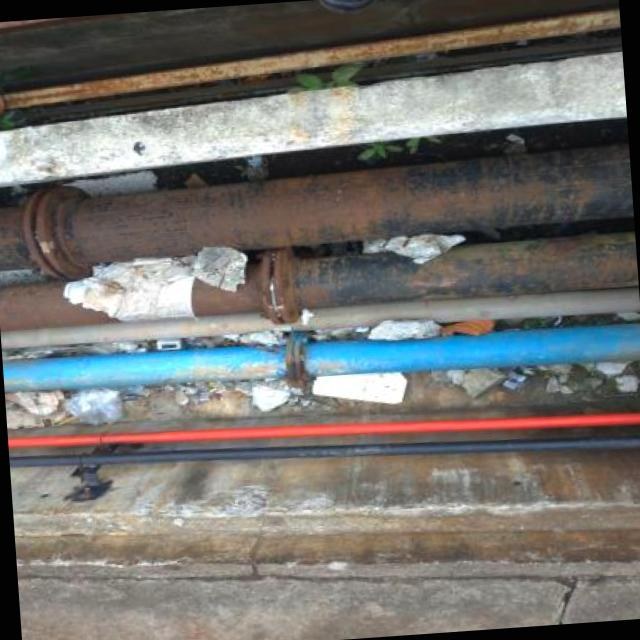gas: (0, 145, 633, 267), (0, 235, 638, 328), (2, 325, 640, 394), (1, 289, 640, 349), (9, 414, 640, 449), (10, 440, 640, 465)
